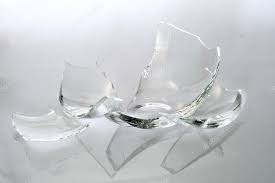glass: (121, 18, 218, 133), (59, 57, 131, 124), (8, 105, 93, 143), (188, 83, 249, 130)
